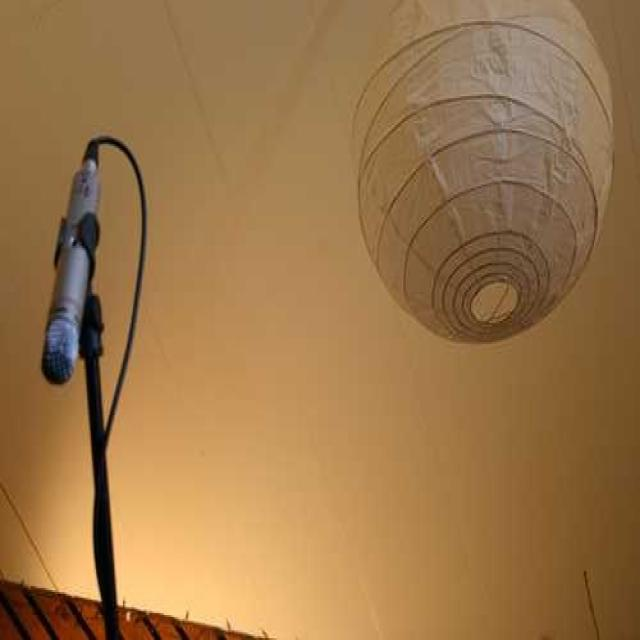microphone: (18, 129, 119, 393)
